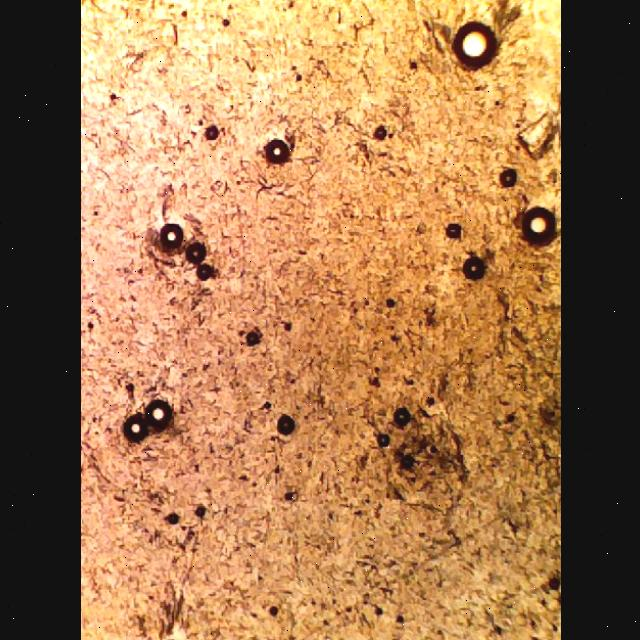microbeads: (446, 19, 498, 69), (518, 205, 558, 253), (258, 134, 290, 172), (120, 412, 150, 450), (270, 408, 298, 440), (145, 398, 171, 432), (162, 219, 184, 253), (183, 234, 207, 264), (459, 256, 486, 282), (368, 118, 390, 146), (202, 123, 220, 147), (438, 222, 459, 242), (193, 262, 213, 282), (244, 328, 260, 350), (497, 169, 515, 187)
